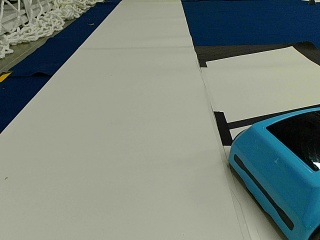car: (225, 100, 318, 237)
